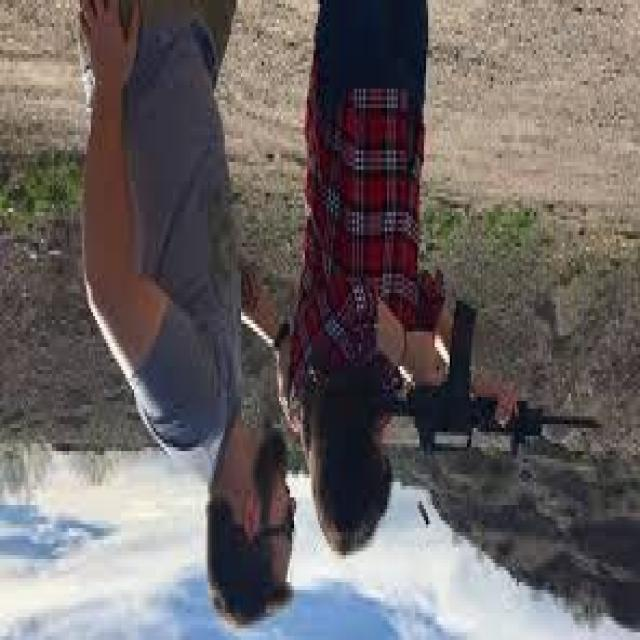gun: (346, 290, 606, 462)
